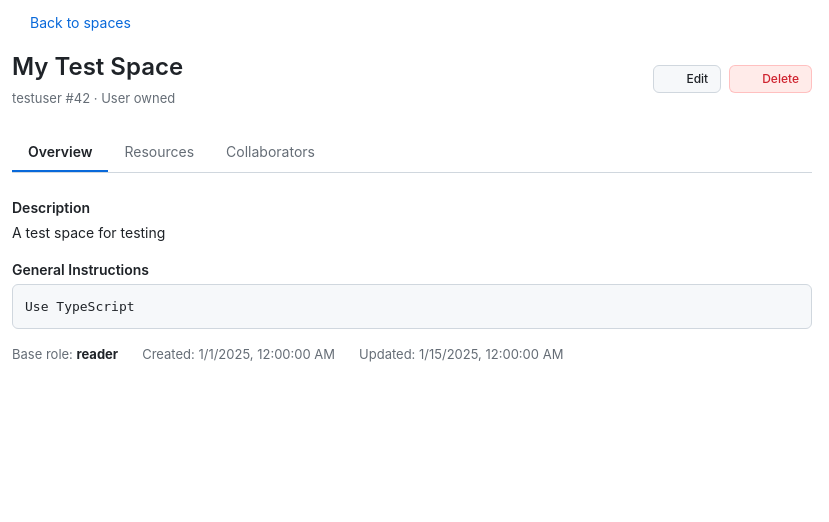
Test case: SpaceDetailPage › cancels delete confirmation
Click the button "Delete". click: (771, 79)
box: [729,65,812,93]
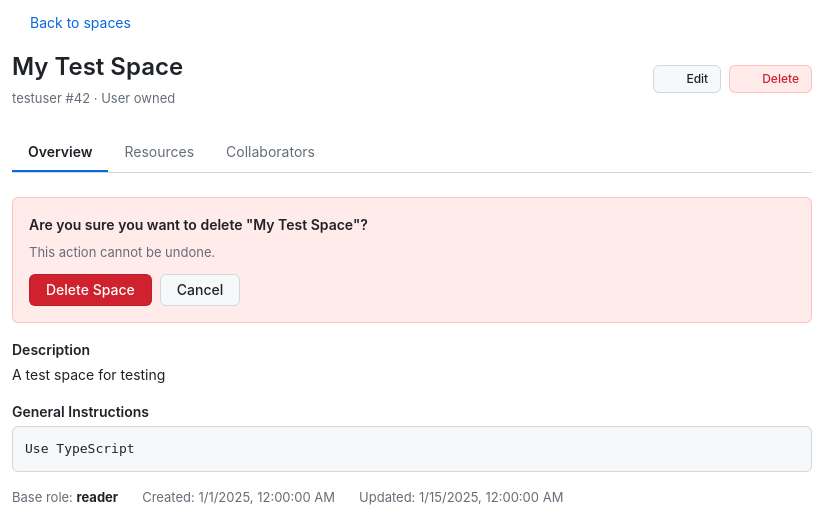
Now the button "Delete Space" is shown, box [29,274,152,306]
Click the button "Cancel". click: (200, 290)
box: [160,274,240,306]
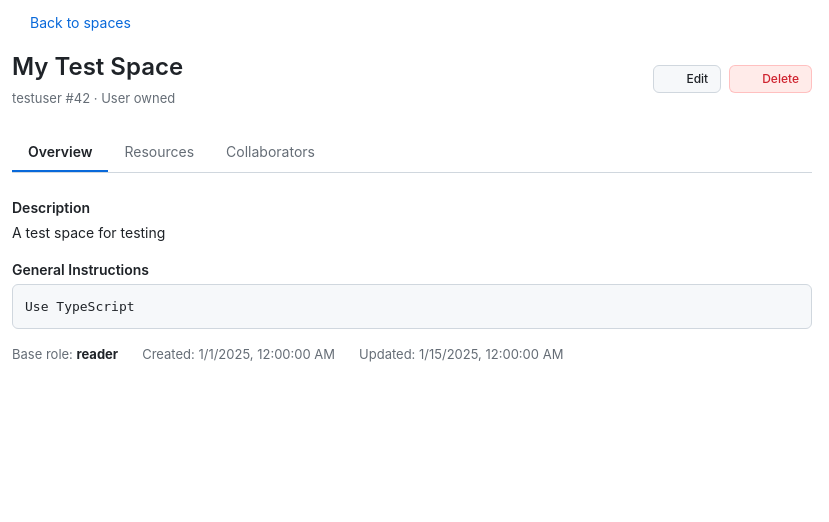
Now the button "Delete Space" is gone
